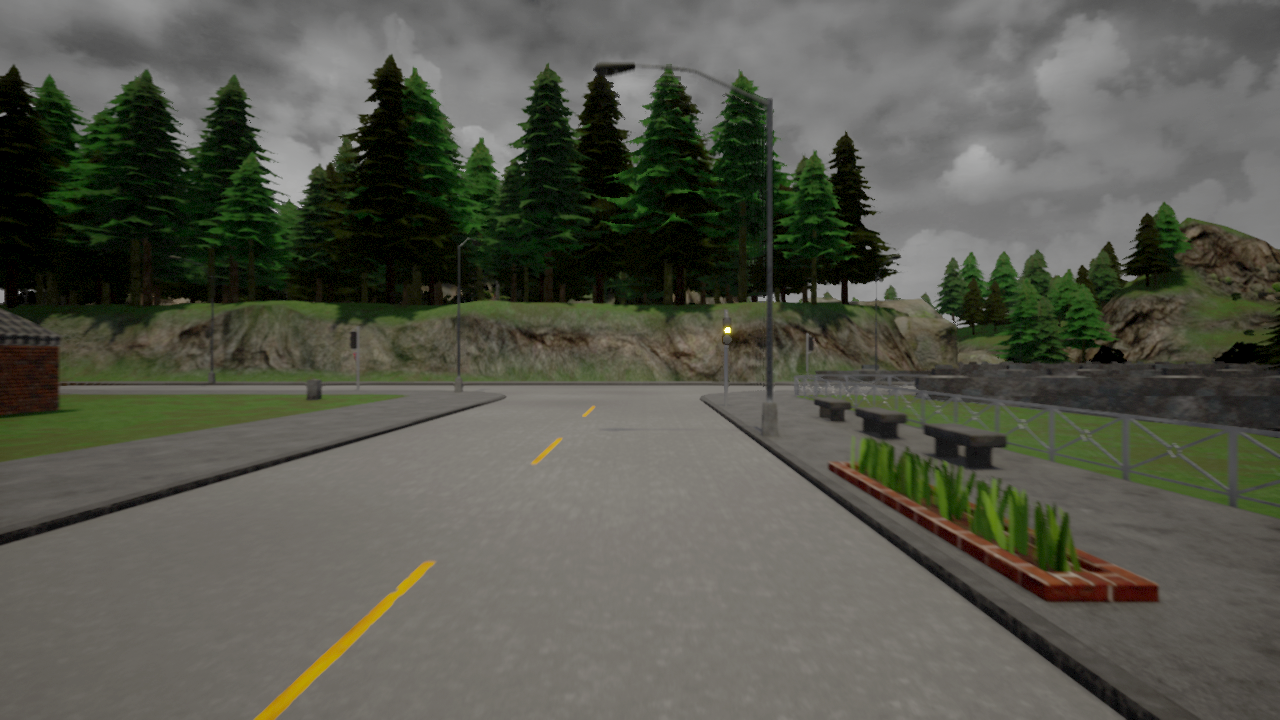yellow: (720, 317, 732, 346)
